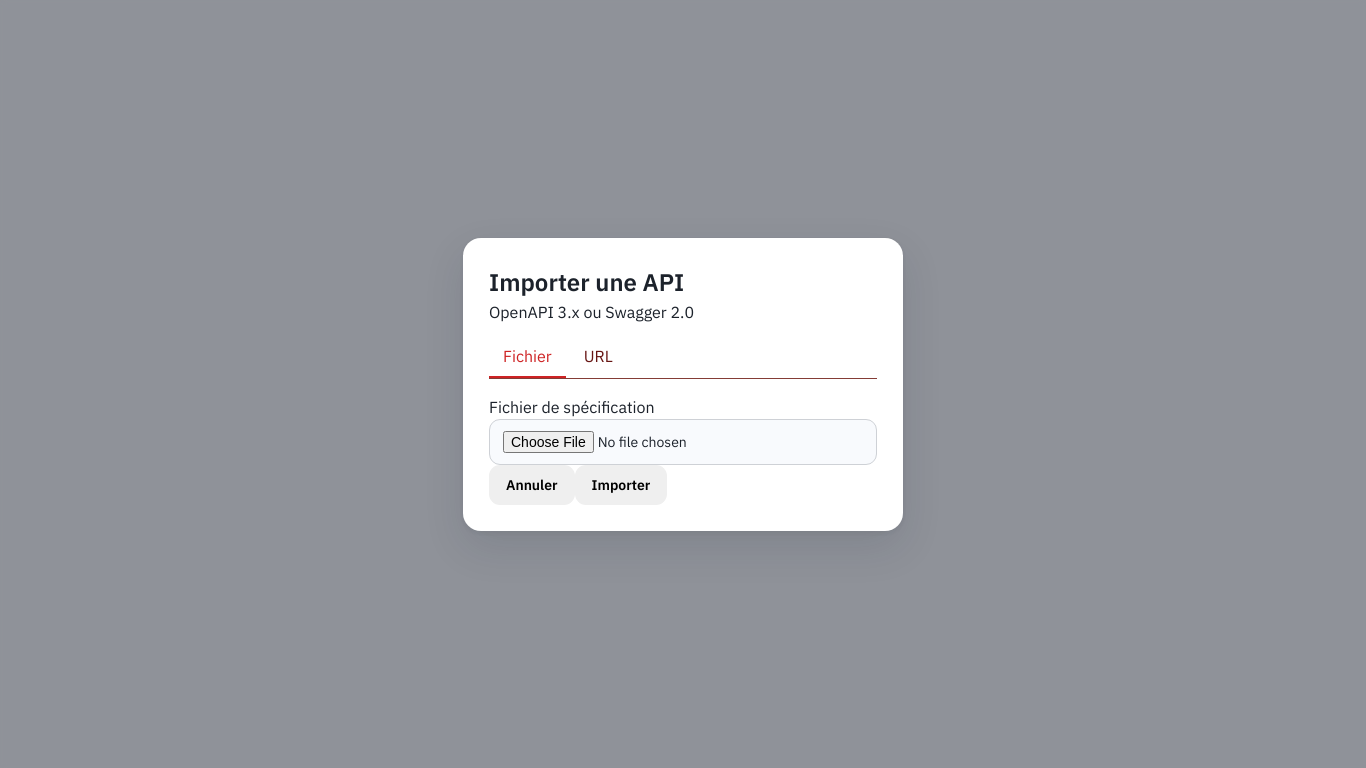
shows the backend error message on failure
Step 1. Click the tab "URL" → (598, 356), box [570, 336, 627, 378]
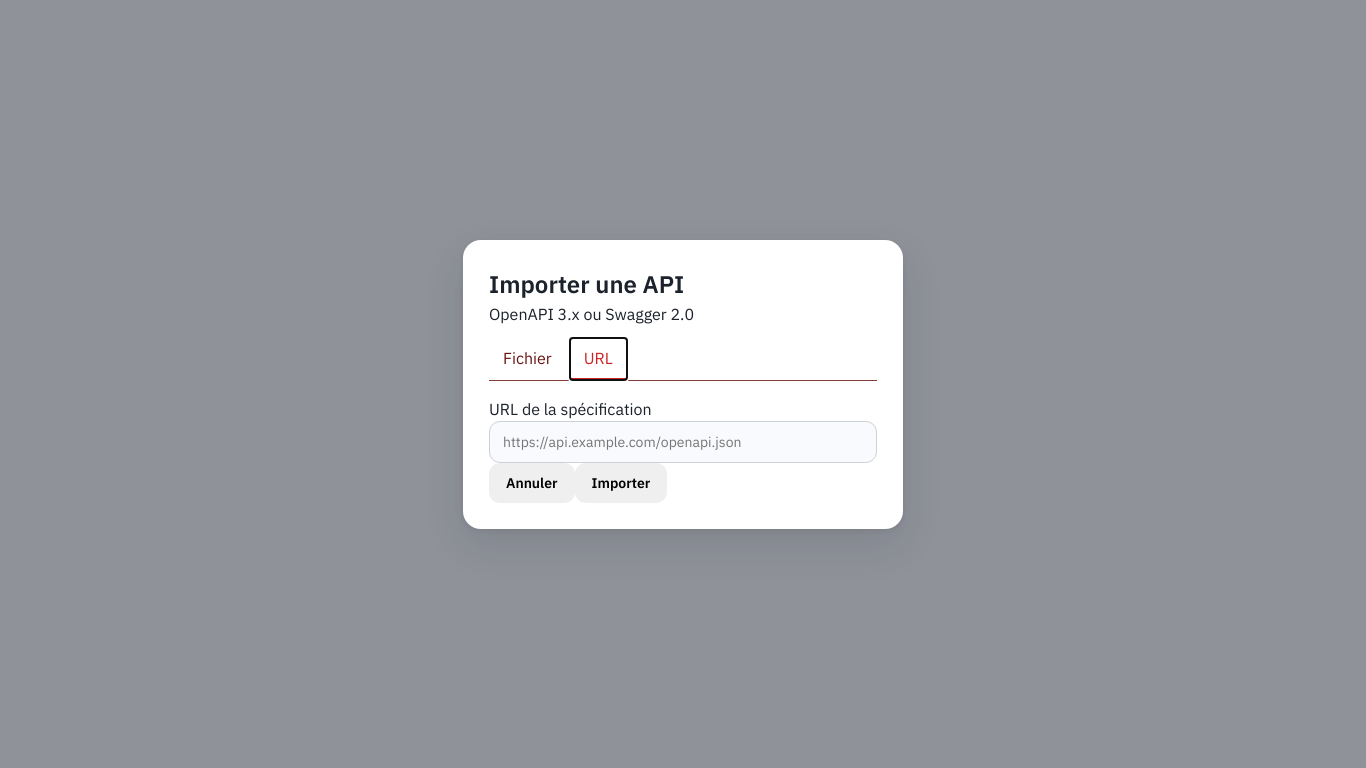
Step 2. Type "https://x/y" into the field with placeholder "https://api.example.com/openapi.json" → (683, 442), box [489, 420, 877, 462]
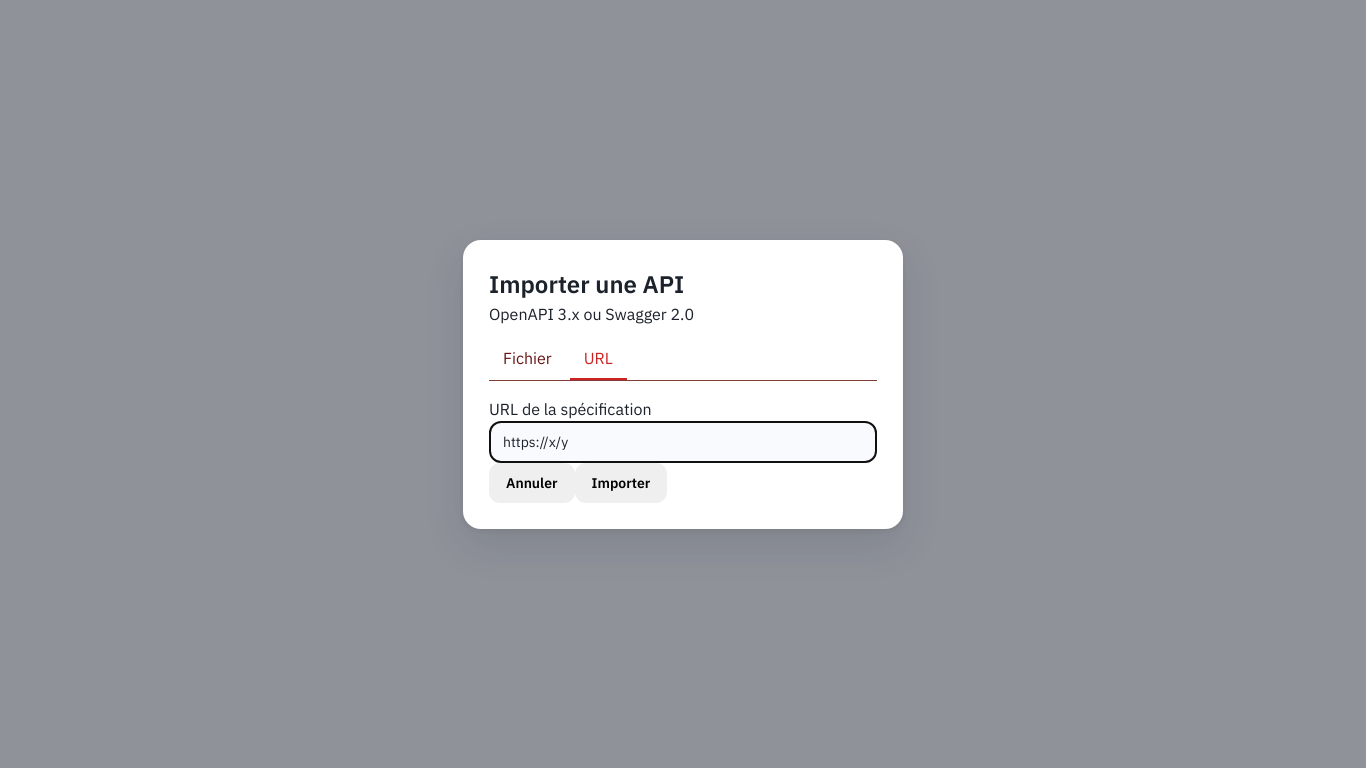
Step 3. Click the button "Importer" → (621, 482), box [574, 462, 667, 502]
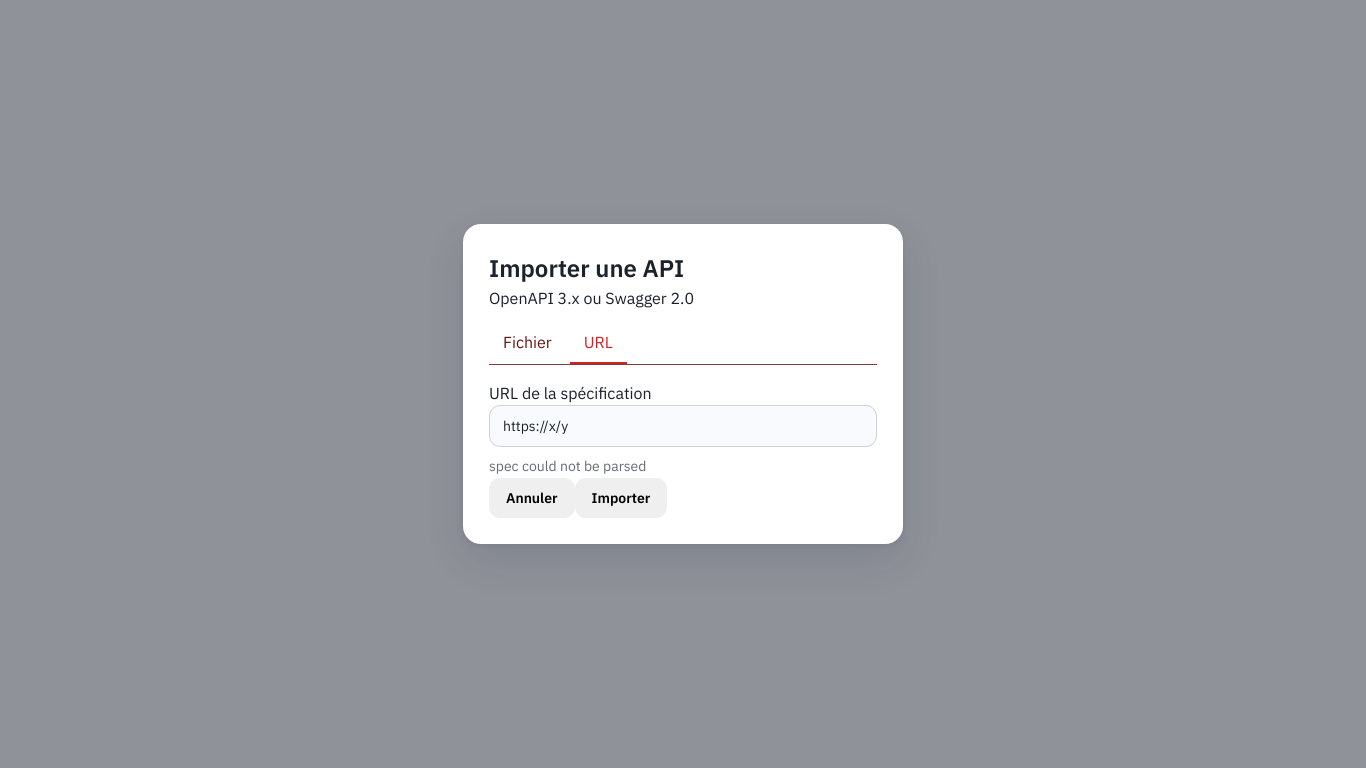
Check: the message reads "spec could not be parsed", box [489, 457, 646, 475]
